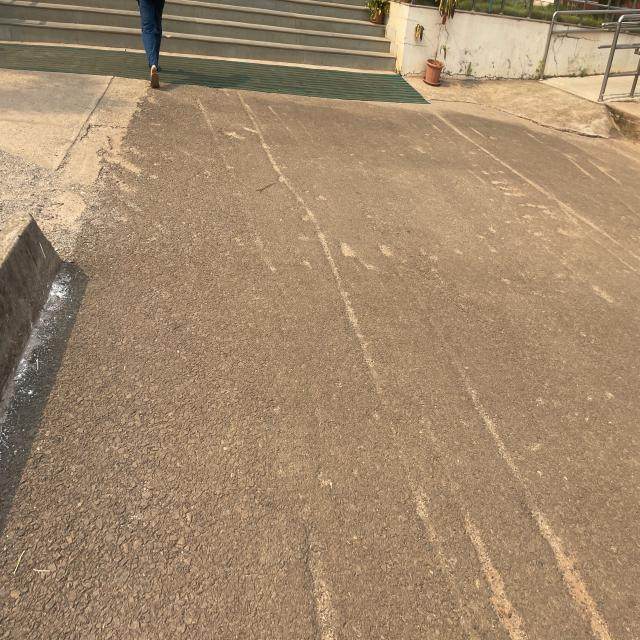D43: (191, 113, 542, 633)
